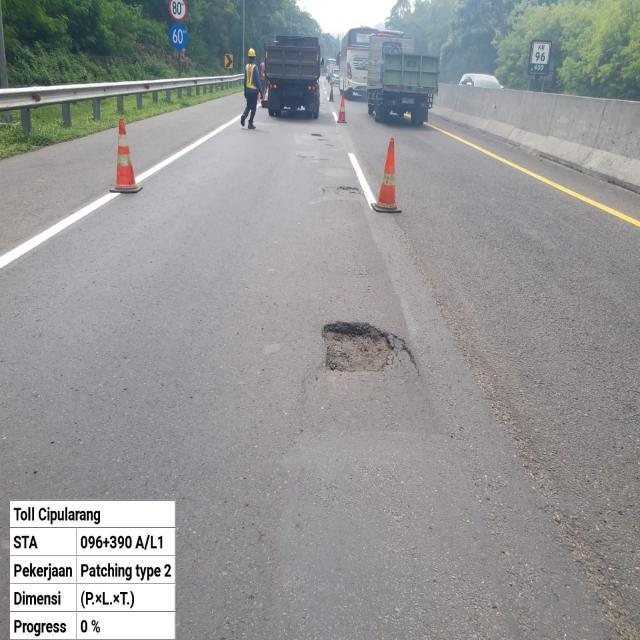Buraco: (318, 319, 417, 376), (334, 185, 366, 201), (309, 132, 325, 139)
